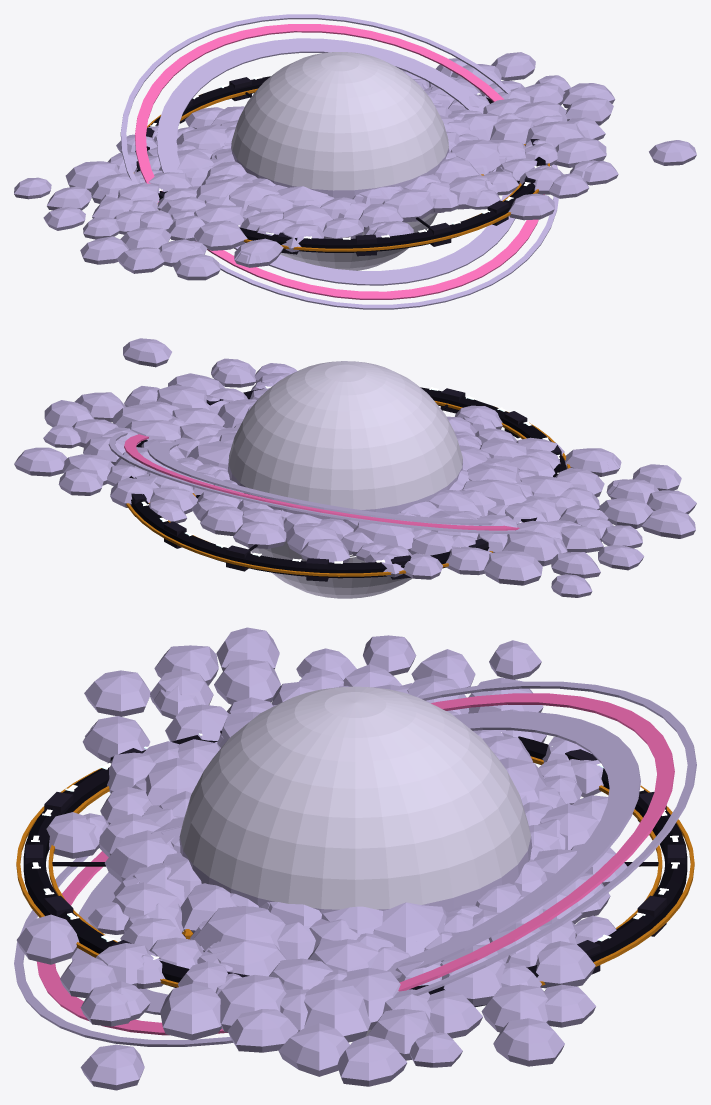
Rendered from crossroads_sky.fbx.
3 views of the same model, one above another, from view 1: azimuth 30°, elevation 25°; view 2: azimuth 150°, elevation 25°; view 3: azimuth 270°, elevation 25° (orthographic). The views are drawn at different scales.
Visible parts, largest first — view 1: hubsky_cloudbank_a, hubsky_moon, hubsky_planet, hubsky_cloudbank_b, hubsky_ring, hubsky_cloudbank_c; view 2: hubsky_cloudbank_a, hubsky_moon, hubsky_cloudbank_b, hubsky_ring, hubsky_planet, hubsky_cloudbank_c; view 3: hubsky_cloudbank_a, hubsky_moon, hubsky_planet, hubsky_cloudbank_b, hubsky_ring, hubsky_cloudbank_c, hubsky_ring_glyphs.
Part boxes in pixels (left/top/right/bottom): hubsky_cloudbank_a: left=14, top=52, right=696, bottom=273; hubsky_moon: left=231, top=52, right=449, bottom=270; hubsky_planet: left=120, top=14, right=558, bottom=309; hubsky_cloudbank_b: left=100, top=58, right=618, bottom=280; hubsky_ring: left=135, top=76, right=549, bottom=256; hubsky_cloudbank_c: left=177, top=114, right=553, bottom=220; hubsky_cloudbank_a: left=14, top=338, right=696, bottom=597; hubsky_moon: left=227, top=361, right=462, bottom=598; hubsky_cloudbank_b: left=58, top=358, right=681, bottom=556; hubsky_ring: left=126, top=387, right=570, bottom=581; hubsky_planet: left=108, top=432, right=527, bottom=533; hubsky_cloudbank_c: left=196, top=381, right=535, bottom=561; hubsky_cloudbank_a: left=16, top=627, right=627, bottom=1090; hubsky_moon: left=179, top=686, right=532, bottom=1041; hubsky_planet: left=14, top=681, right=696, bottom=1046; hubsky_cloudbank_b: left=60, top=669, right=596, bottom=1031; hubsky_ring: left=16, top=730, right=694, bottom=1007; hubsky_cloudbank_c: left=114, top=748, right=581, bottom=988; hubsky_ring_glyphs: left=31, top=732, right=679, bottom=959.
Bounding box in the file's own units: 597 × 200 × 383.
